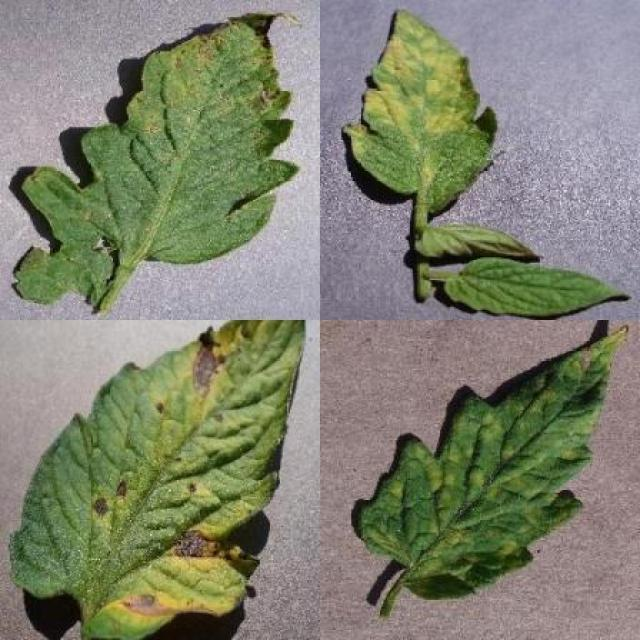Early Blight: (13, 320, 306, 640)
Healthy: (446, 259, 633, 320)
Leaf Mold: (356, 325, 630, 605), (342, 5, 509, 215)
Septoria: (5, 10, 299, 303)
